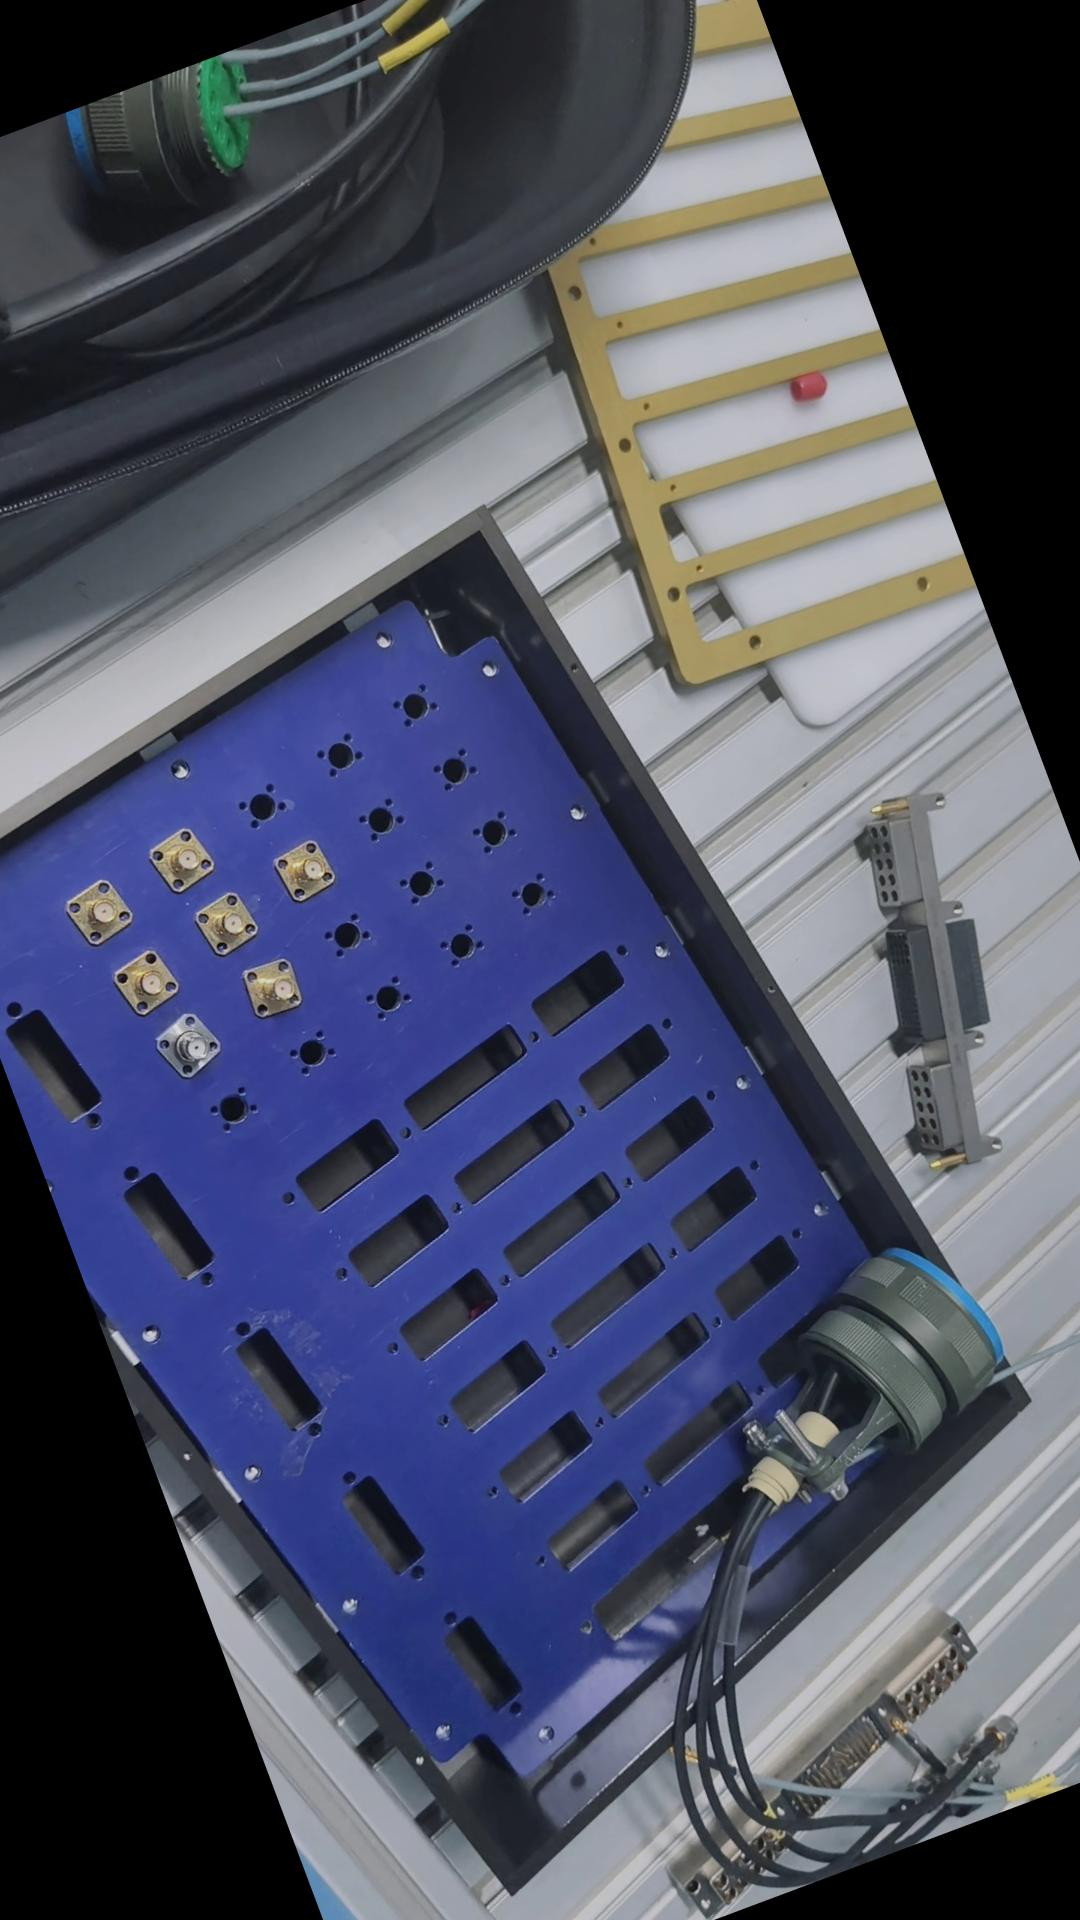SMA: (236, 945, 318, 1027), (59, 870, 144, 949), (142, 820, 227, 899), (109, 947, 189, 1023), (268, 829, 347, 905), (153, 1005, 228, 1080), (194, 887, 266, 960)
